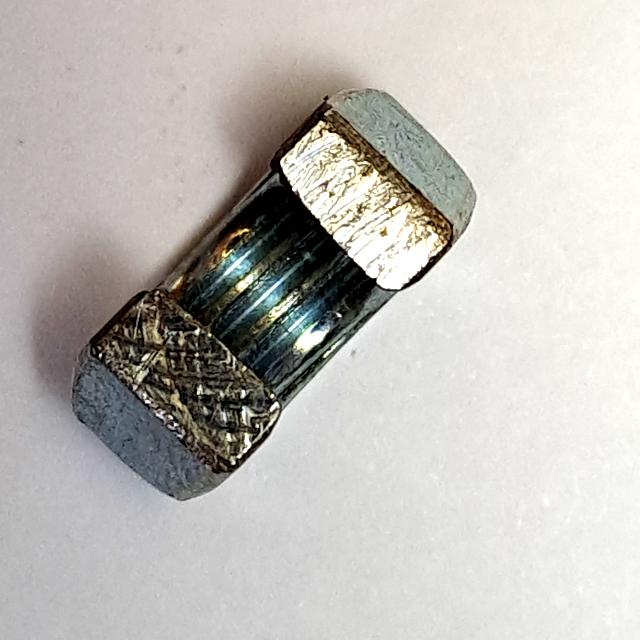Side-Fracture: (57, 77, 491, 521)
